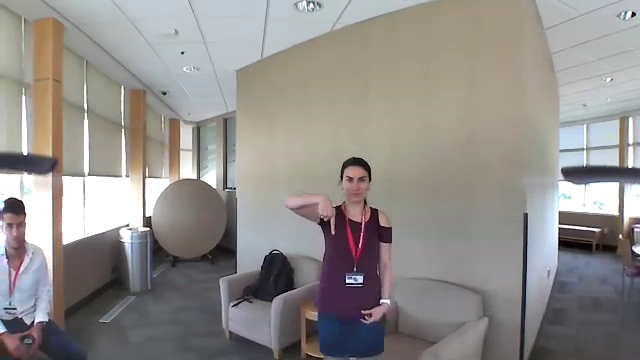down: (311, 190, 343, 242)
